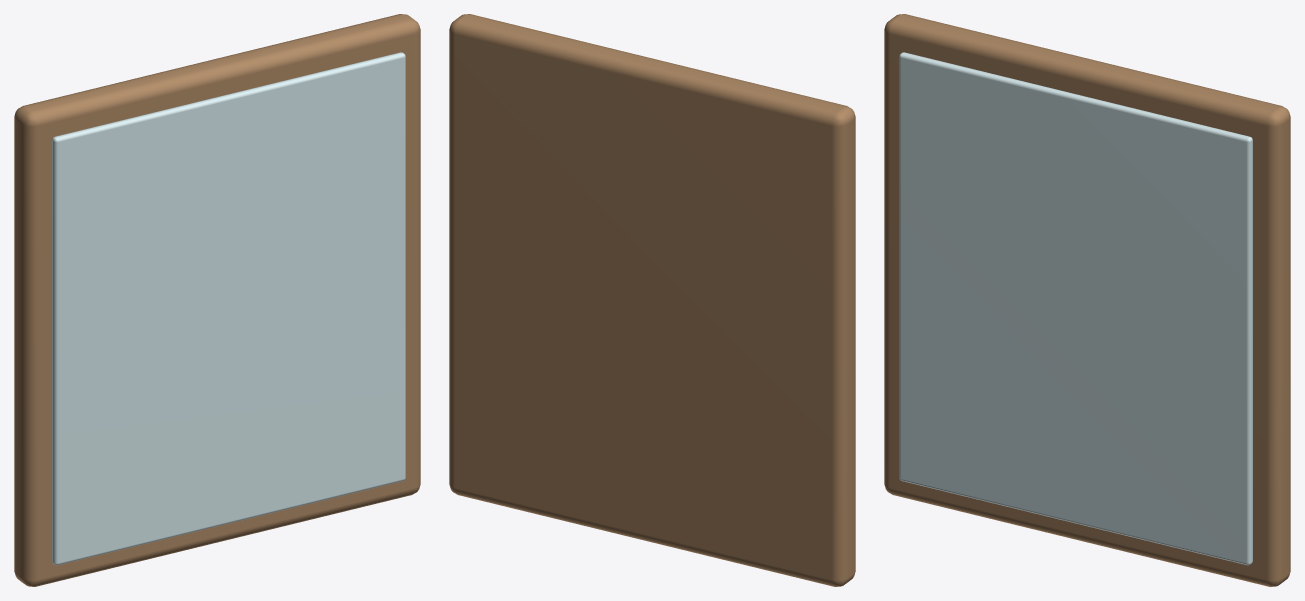
The model's file is atelier-bathroom-mirror.glb.
The picture shows the model from 3 angles, left to right: view 1: azimuth 30°, elevation 25°; view 2: azimuth 150°, elevation 25°; view 3: azimuth 330°, elevation 25°; orthographic projection.
Visible parts, largest first — view 1: glass.018, legs.165; view 2: legs.165; view 3: glass.018, legs.165.
Boxes of the visible parts, bbox=[...] form: glass.018: bbox=[52, 52, 405, 565]; legs.165: bbox=[14, 14, 420, 586]; legs.165: bbox=[449, 14, 855, 586]; glass.018: bbox=[899, 52, 1252, 565]; legs.165: bbox=[884, 14, 1290, 586].
Size of the model in its own units: 0.7 by 0.8 by 0.0695.
